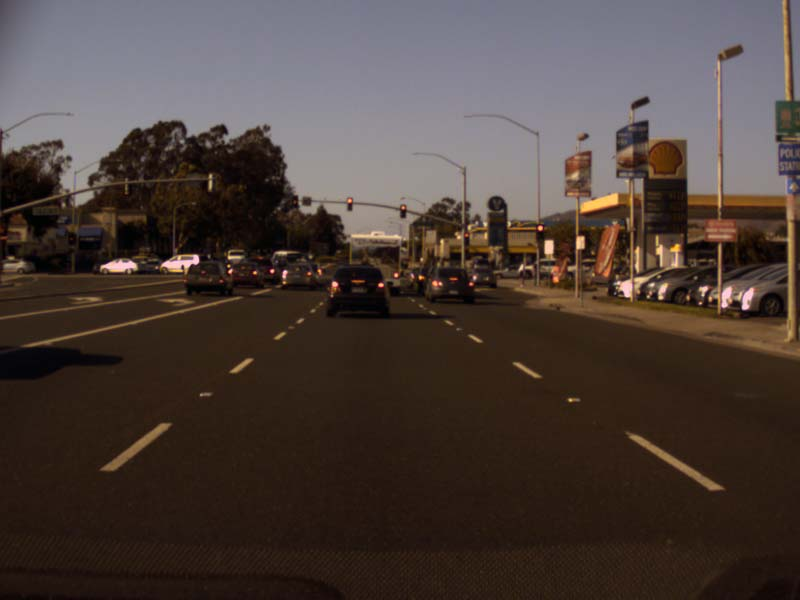Red: (535, 223, 544, 239), (400, 204, 405, 217), (464, 231, 468, 243), (347, 197, 351, 209)
Yellow: (292, 196, 296, 206)
